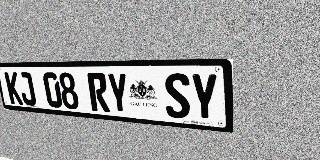0: (42, 72, 63, 108)
8: (58, 72, 80, 110)
J: (17, 72, 37, 106)
K: (4, 72, 23, 105)
R: (87, 73, 110, 112)
S: (164, 73, 191, 119)
Y: (190, 73, 218, 122), (106, 73, 130, 114)
